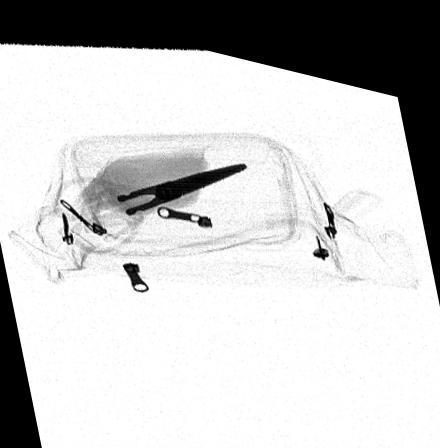Scissors: (48, 149, 252, 254)
